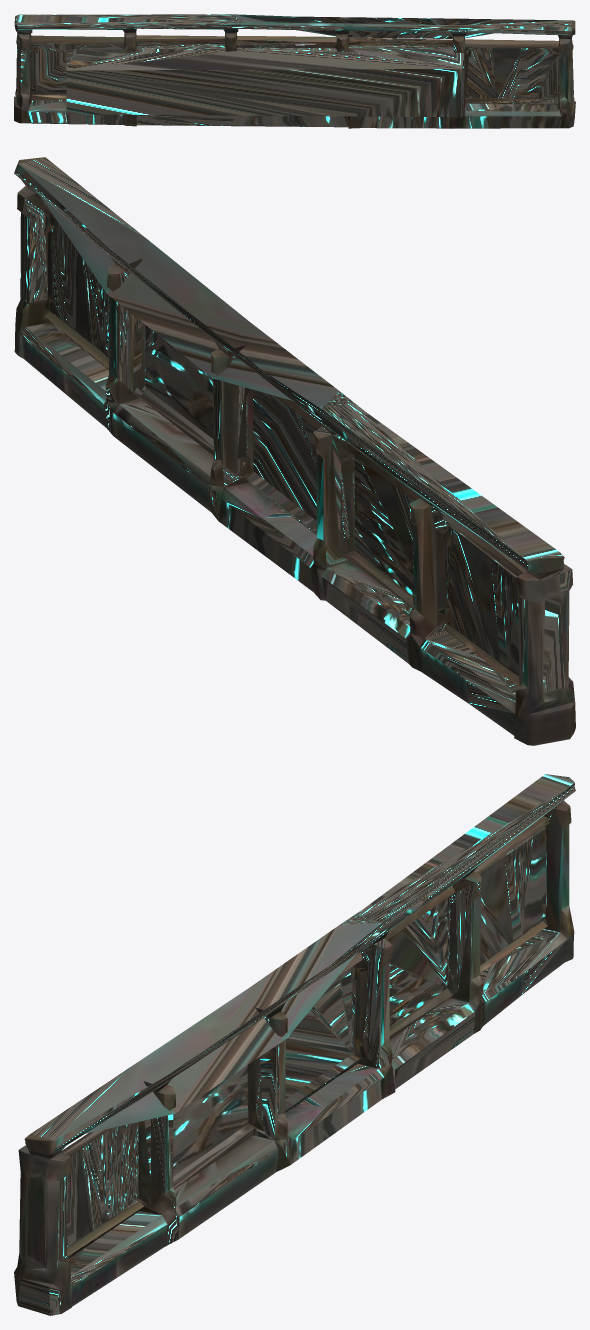
File: s07_far.glb
The picture shows the model from 3 angles, top to bottom: view 1: azimuth 30°, elevation 25°; view 2: azimuth 150°, elevation 25°; view 3: azimuth 270°, elevation 25°; orthographic projection. The views are drawn at different scales.
Visible parts, largest first — view 1: s07_far; view 2: s07_far; view 3: s07_far.
Part boxes in pixels (x1=…): s07_far: x1=14, y1=14, x2=575, y2=128; s07_far: x1=14, y1=157, x2=575, y2=745; s07_far: x1=14, y1=774, x2=575, y2=1315.
Size of the model in its own units: 6.38 by 1.4 by 4.07.
Materials: 1 (1 with a texture image).
